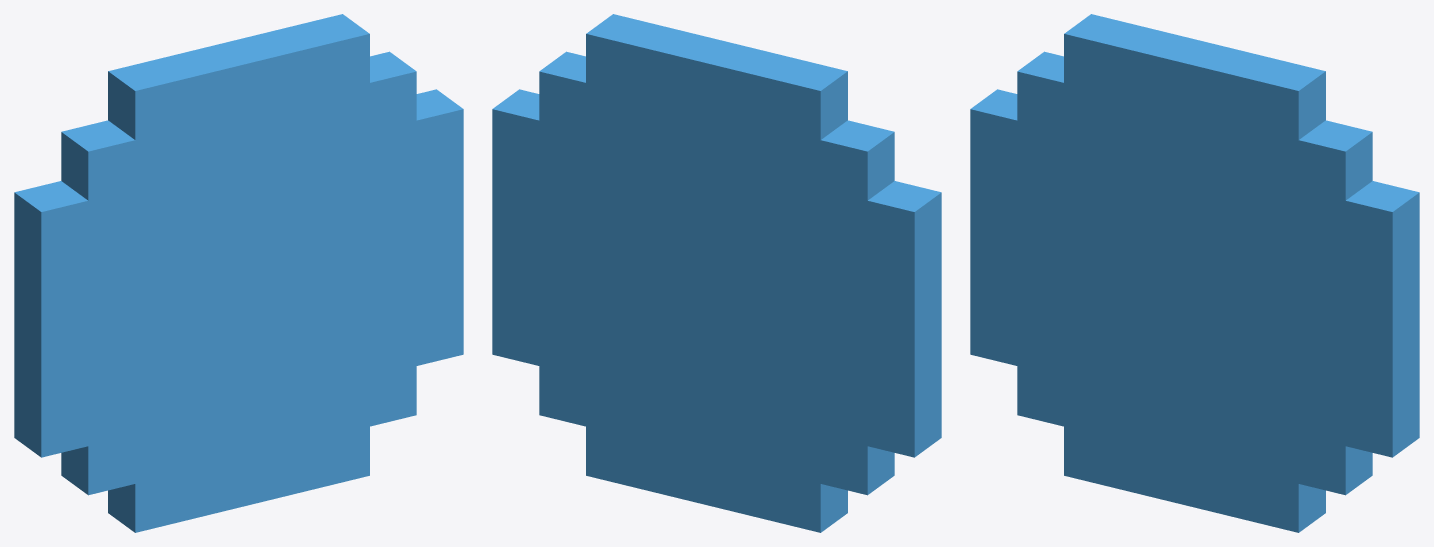
The model's file is Shield-Large-Blue.vox.obj.
3 renders of one model, left to right at view 1: azimuth 30°, elevation 25°; view 2: azimuth 150°, elevation 25°; view 3: azimuth 330°, elevation 25°, orthographic.
Bounding box in the file's own units: 0.9 × 0.9 × 0.1.
Materials: 1 (1 with a texture image).
